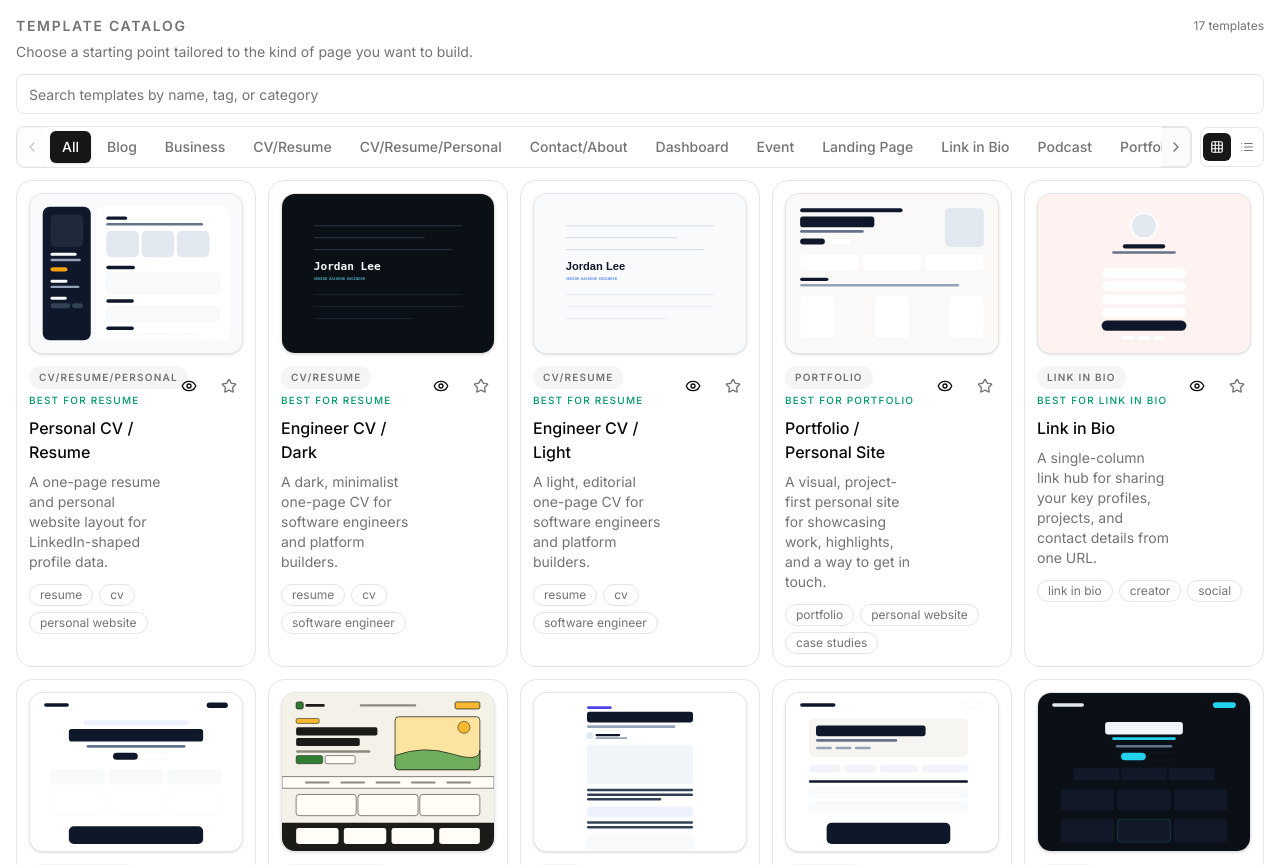
Test: TemplateCatalog › previews a template in a modal without applying it
What coordinates should you click on to do the following:
click the button named "Preview Personal CV / Resume template"
I would click on:
 (189, 386)
Its box is x1=169 y1=366 x2=209 y2=406.
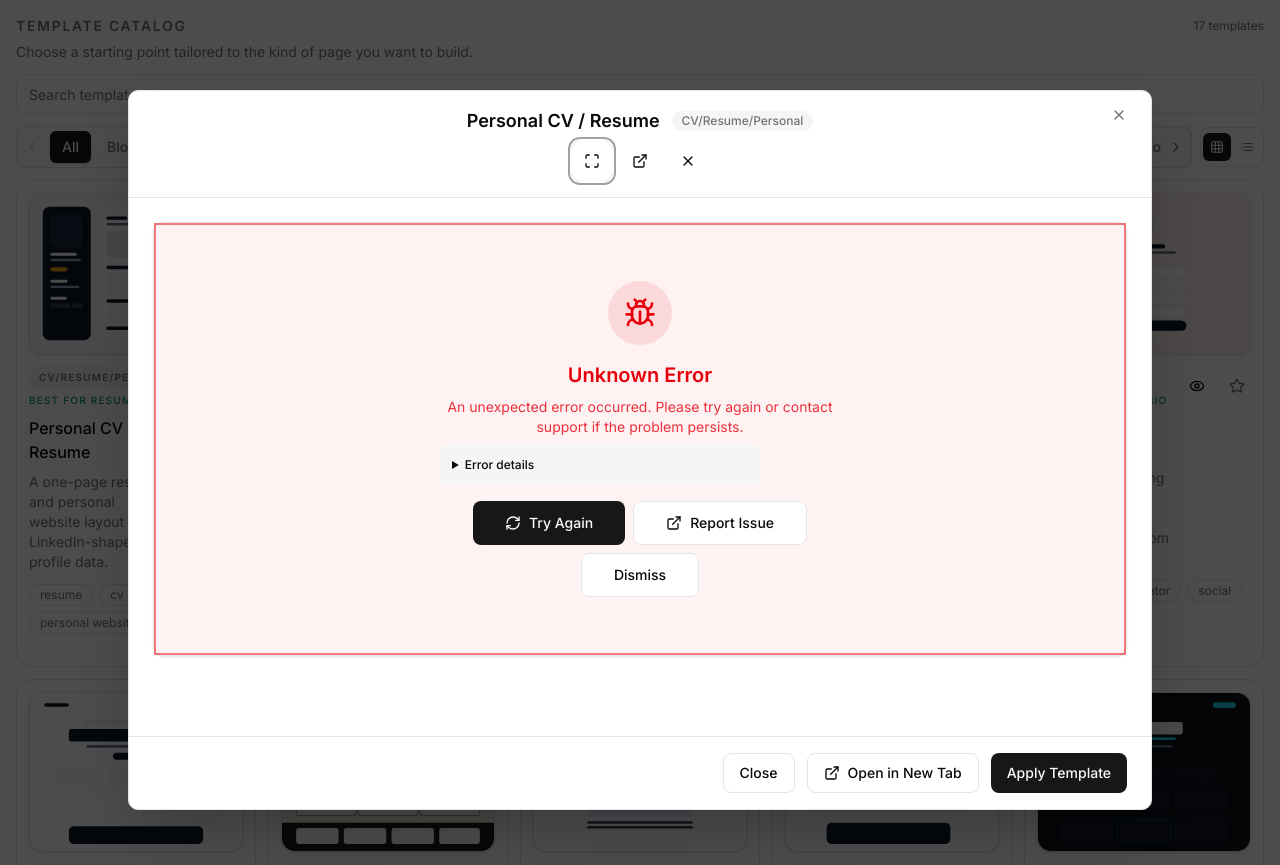
Expected: the heading "Personal CV / Resume" is shown, x1=467 y1=107 x2=660 y2=135
Expected: the text "CV/Resume/Personal" is shown, x1=672 y1=111 x2=813 y2=131
What coordinates should you click on to do the following:
click the button named "Close preview"
I would click on:
 (688, 161)
Its box is x1=668 y1=141 x2=708 y2=181.
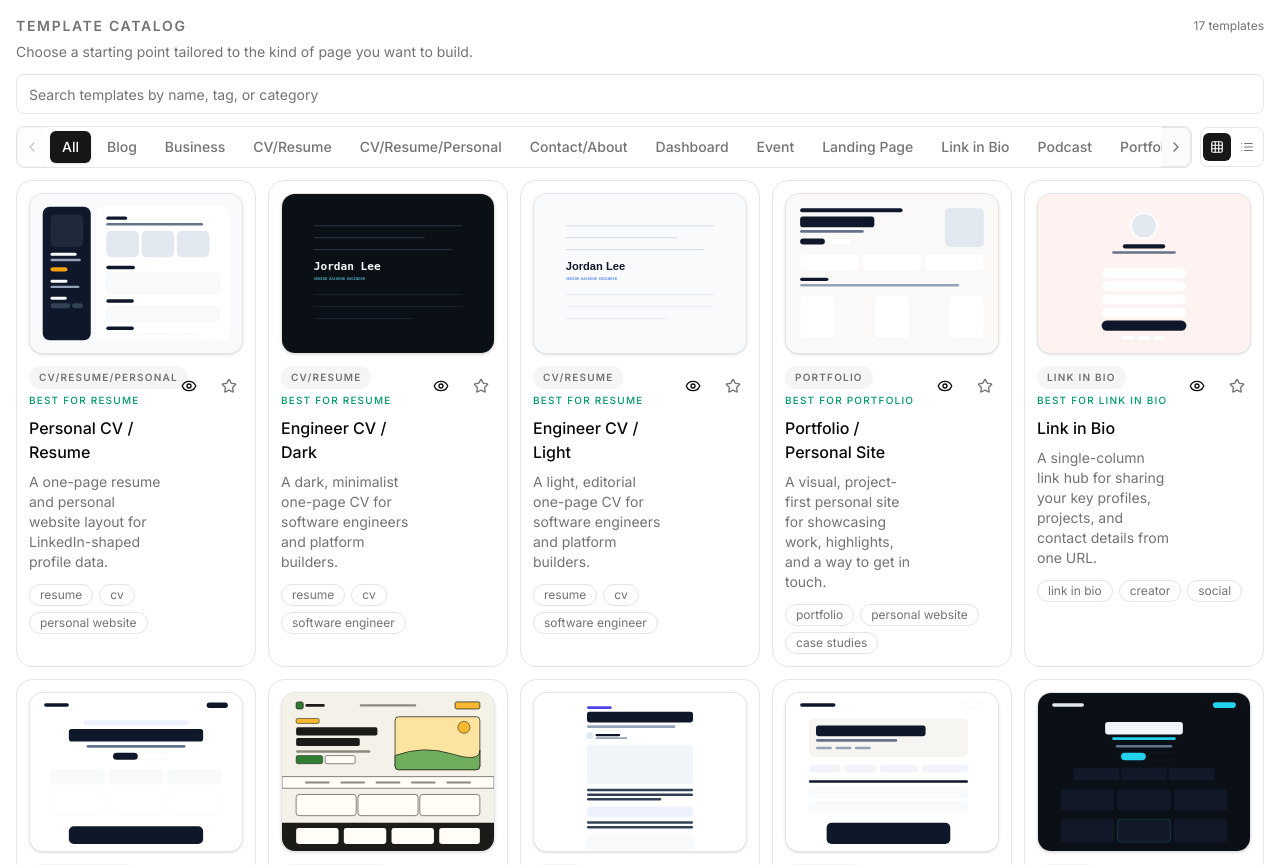
Expected: the dialog is gone
